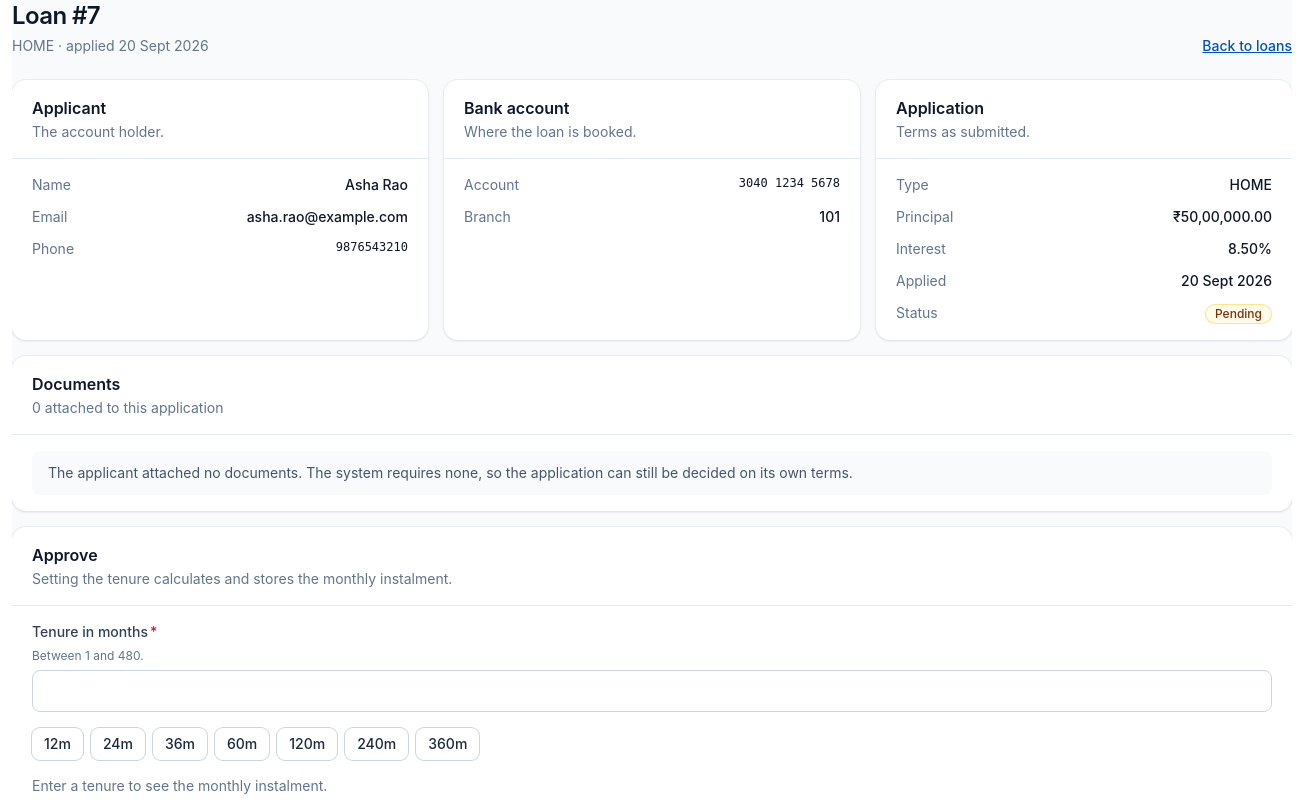
Test: LoanDetailPage › approval › reports the conflict when a loan is approved by someone else first
The width and height of the screenshot is (1304, 800).
Expected: the text "Asha Rao" is shown, [345,175,408,195]
Click the button "240m": (377, 744) [345,728,408,760]
(page scrolled)
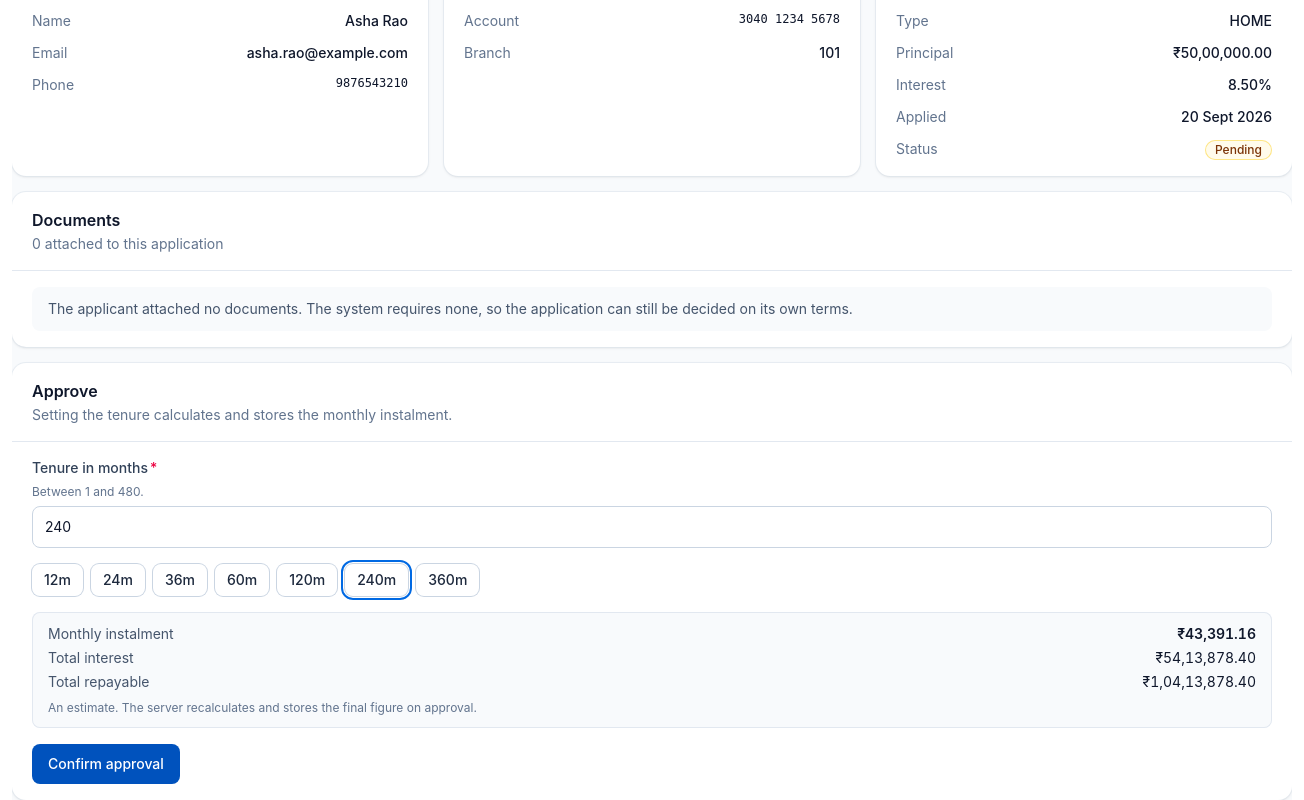
Click the button "Confirm approval": (106, 764) [32,744,180,784]
(page scrolled)
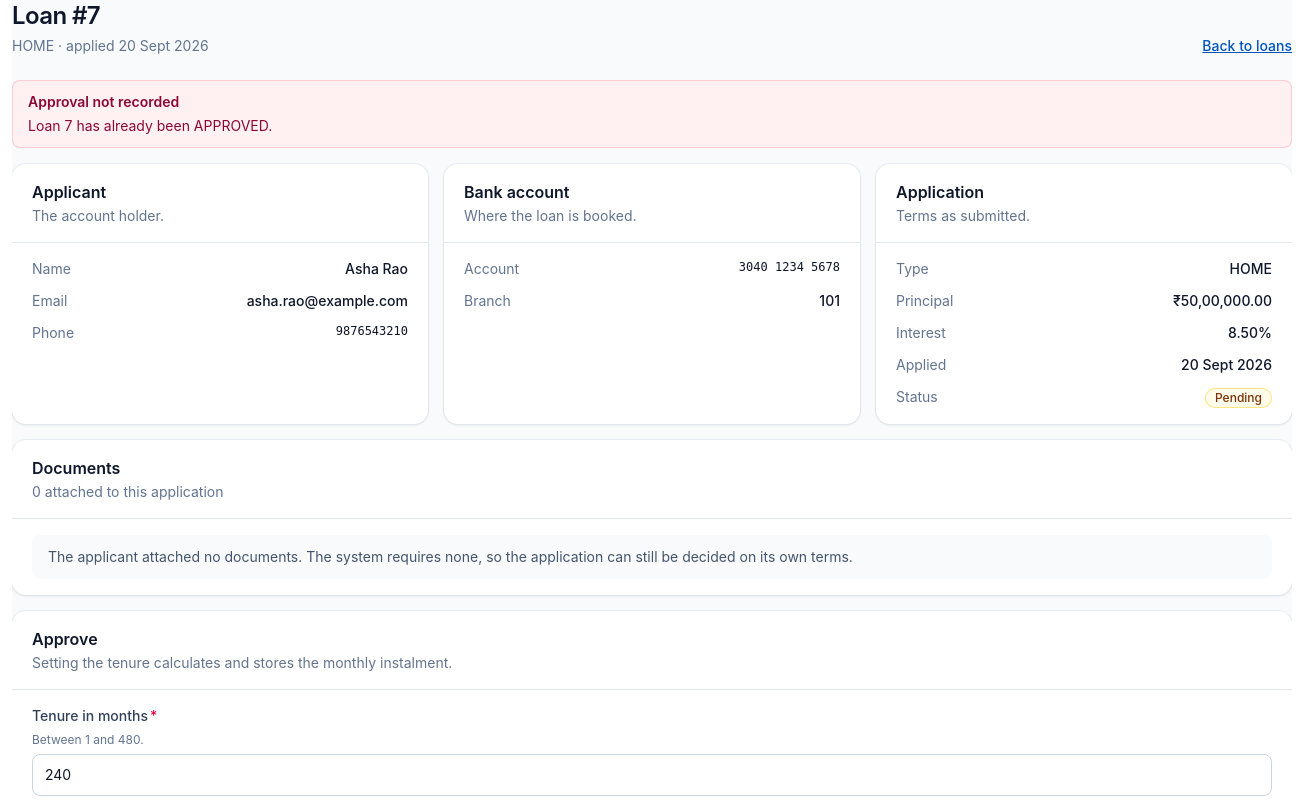
Result: the text "Approval not recorded" is shown at [28,93,179,110]
Result: the text "Loan 7 has already been APPROVED." is shown at [28,117,272,134]
